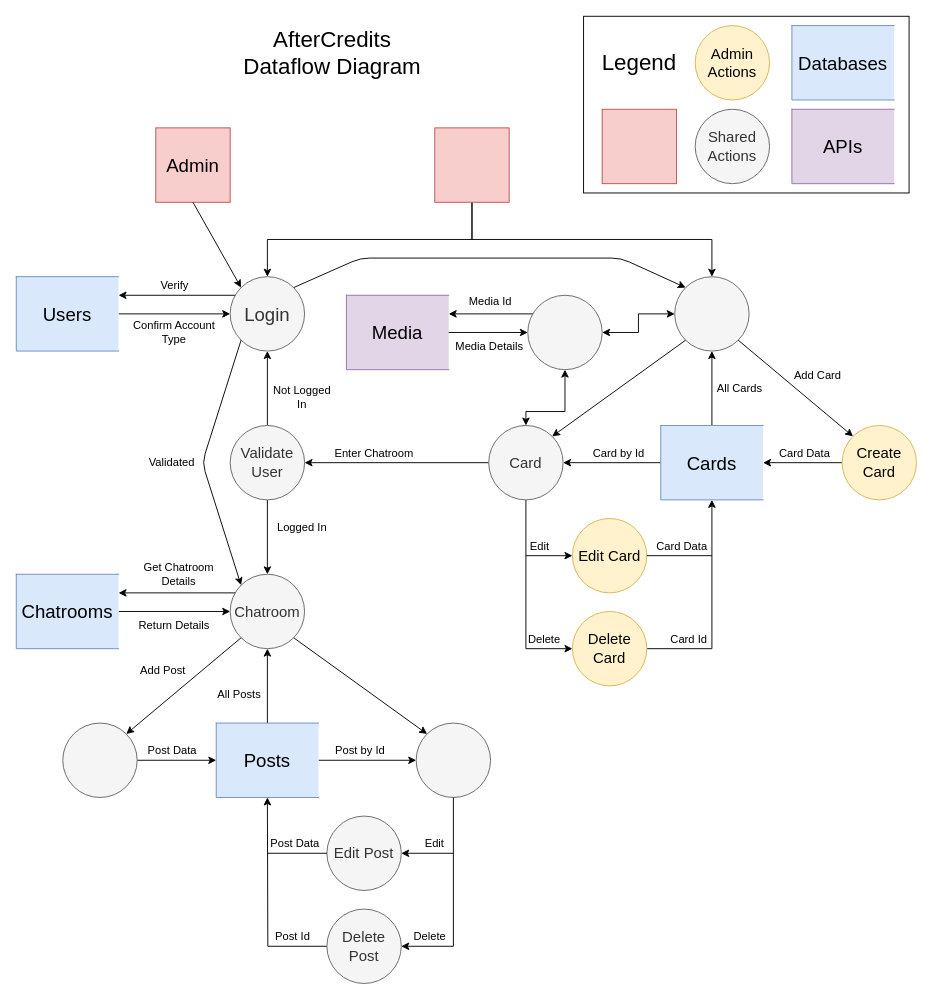
Some shapes in this 933 by 1000 pixel diagram are drawn without their labels. Here are the shapes that lost their labels. From the top down, the centre of each, then its label:
At point 471,164: "User".
At point 639,146: "Entities".
At point 564,332: "Fetch API Data".
At point 711,313: "Home".
At point 99,759: "Create Post".
At point 453,759: "Post".
